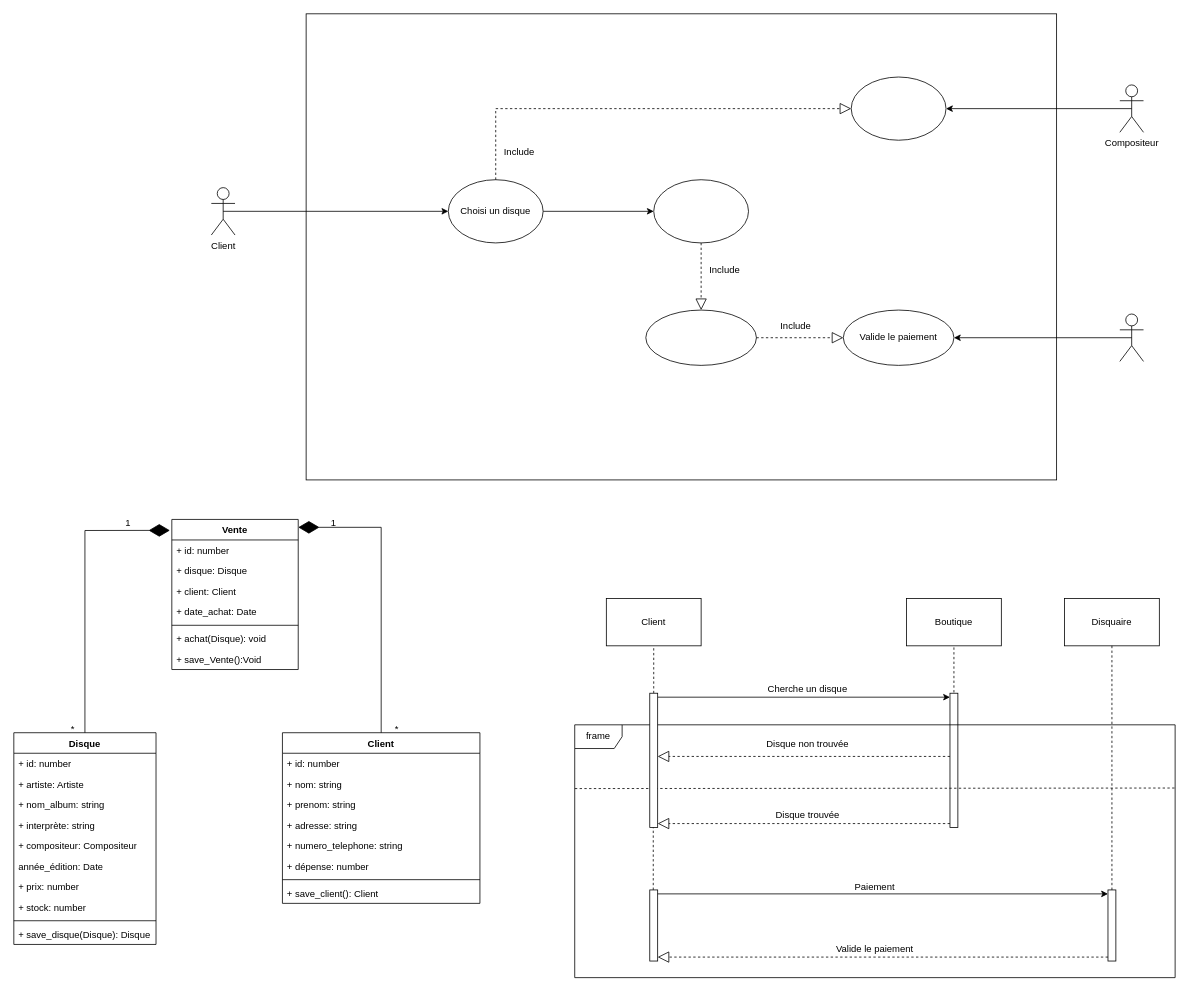
Some shapes in this 1190 by 991 pixel diagram are drawn without their labels. Here are the shapes that lost their labels. From the top down, the centre of each, then its label:
At point 898,108: "Compose Disque".
At point 701,211: "Achéte le disque".
At point 700,337: "Paye".
At point 1131,337: "Vendeur".
